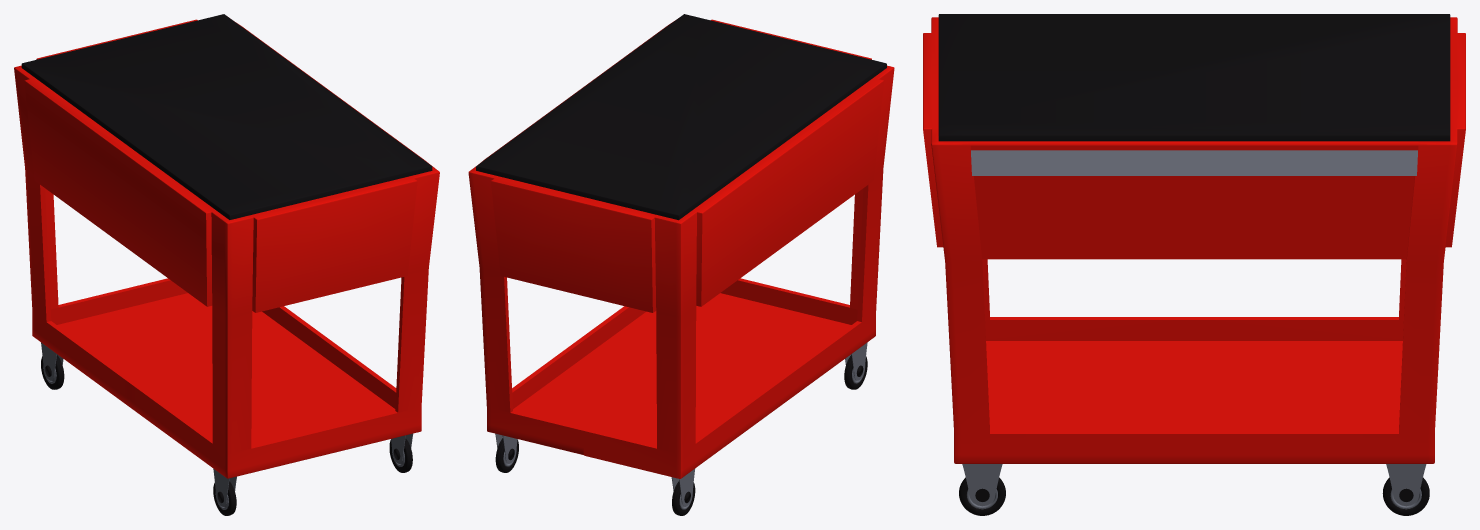
File: CarritoPequeño.fbx
3 views of the same model, side by side, from view 1: azimuth 30°, elevation 25°; view 2: azimuth 150°, elevation 25°; view 3: azimuth 270°, elevation 25° (orthographic). The views are drawn at different scales.
Visible parts, largest first — view 1: BaseCarrito, RuedasCarrito; view 2: BaseCarrito, RuedasCarrito; view 3: BaseCarrito, CajonCarrito, RuedasCarrito.
Part boxes in pixels (x1,y1,x2,y2): BaseCarrito: (14,14,439,478); RuedasCarrito: (41,342,413,515); BaseCarrito: (468,14,894,478); RuedasCarrito: (495,342,867,515); BaseCarrito: (923,14,1465,463); CajonCarrito: (971,150,1417,259); RuedasCarrito: (959,464,1429,515).
Bounding box in the file's own units: 241 × 319 × 404.
